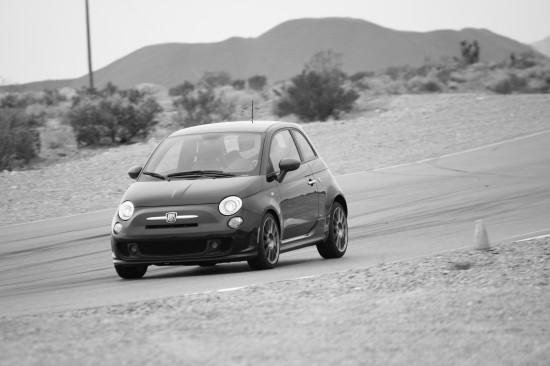car: (111, 101, 350, 281)
